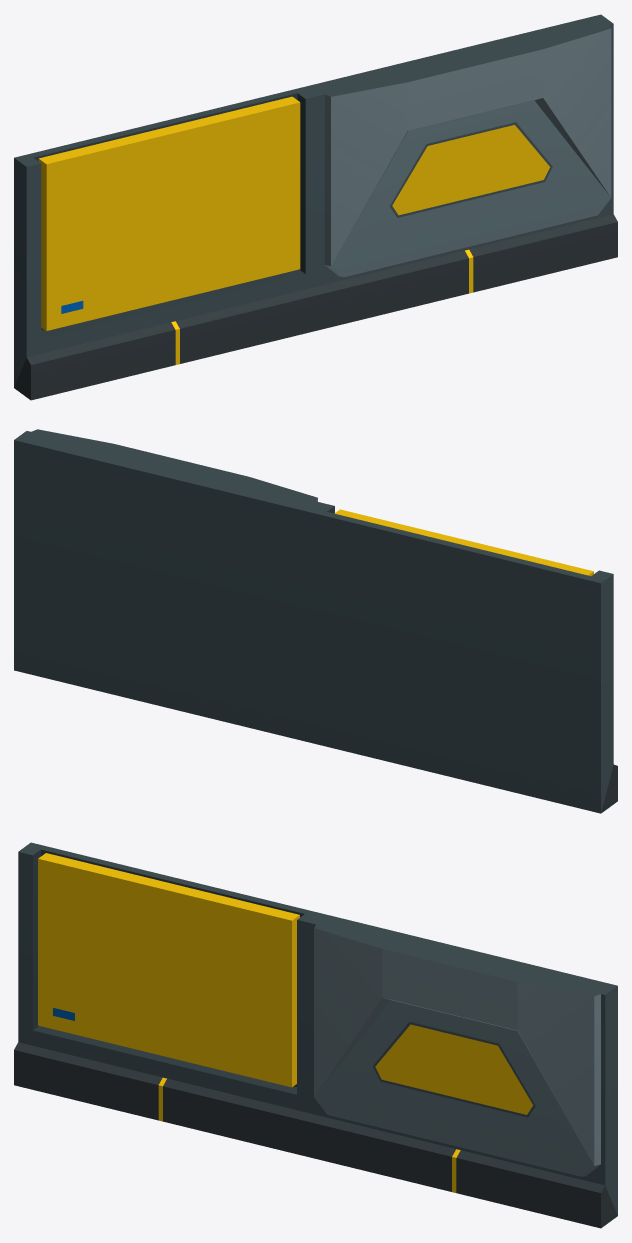
Rendered from Wall_type_C_034.fbx.
The picture shows the model from 3 angles, top to bottom: view 1: azimuth 30°, elevation 25°; view 2: azimuth 150°, elevation 25°; view 3: azimuth 330°, elevation 25°; orthographic projection.
Visible parts, largest first — view 1: Wall_type_C_034; view 2: Wall_type_C_034; view 3: Wall_type_C_034.
Boxes of the visible parts, x1,y1,x2,y2 form: Wall_type_C_034: (14, 14, 617, 400); Wall_type_C_034: (14, 429, 617, 813); Wall_type_C_034: (14, 842, 617, 1228).
Size of the model in its own units: 400 by 25 by 150.
